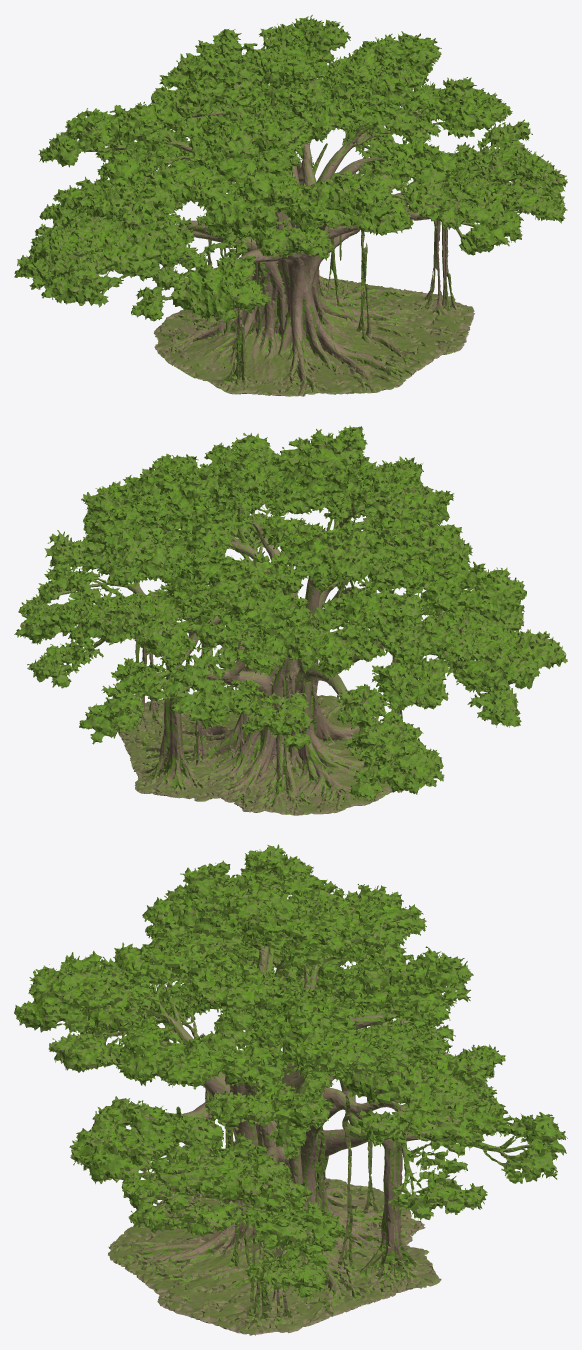
The model's file is cay_da_toi_uu.glb.
3 renders of one model, top to bottom at view 1: azimuth 30°, elevation 25°; view 2: azimuth 150°, elevation 25°; view 3: azimuth 270°, elevation 25°, orthographic. The views are drawn at different scales.
Visible parts, largest first — view 1: world; view 2: world; view 3: world.
Part boxes in pixels (x1=…): world: x1=14, y1=14, x2=567, y2=396; world: x1=14, y1=425, x2=567, y2=815; world: x1=14, y1=844, x2=567, y2=1335.
Size of the model in its own units: 1.9 by 1.09 by 1.53.
1 material, 1 textured.
